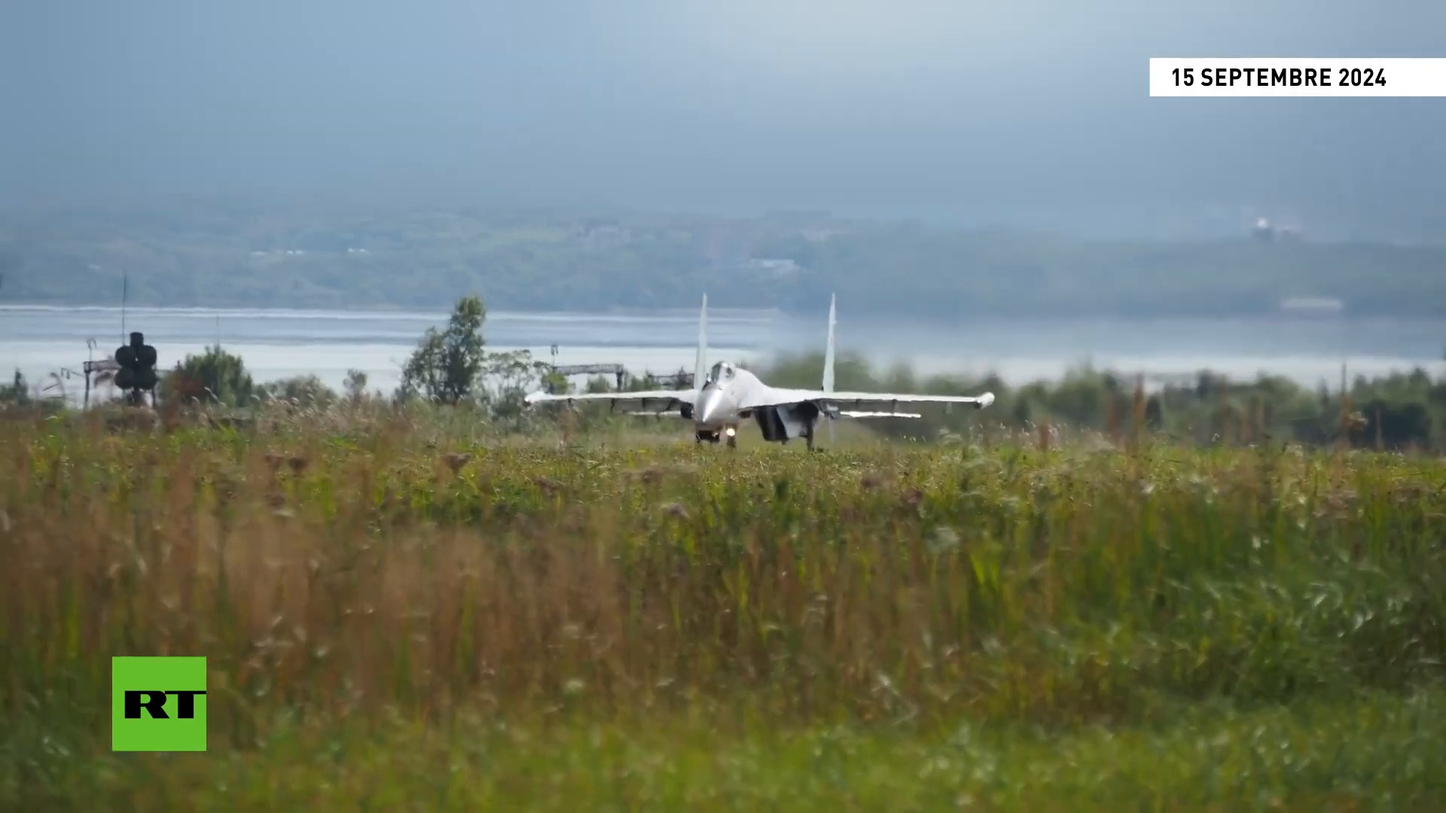Su35: (525, 293, 994, 452)
